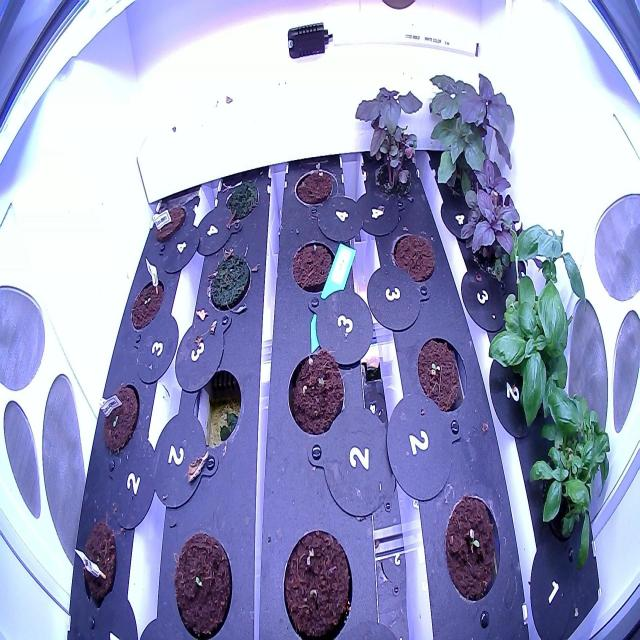empty_pod: (186, 365, 245, 456)
germination: (279, 521, 357, 637), (439, 488, 504, 611), (283, 347, 350, 445), (415, 332, 471, 418), (98, 381, 141, 464), (289, 158, 342, 216), (128, 270, 165, 334)
pod: (168, 528, 240, 640), (288, 236, 345, 304), (80, 518, 120, 608), (388, 227, 440, 289), (152, 200, 188, 246)
